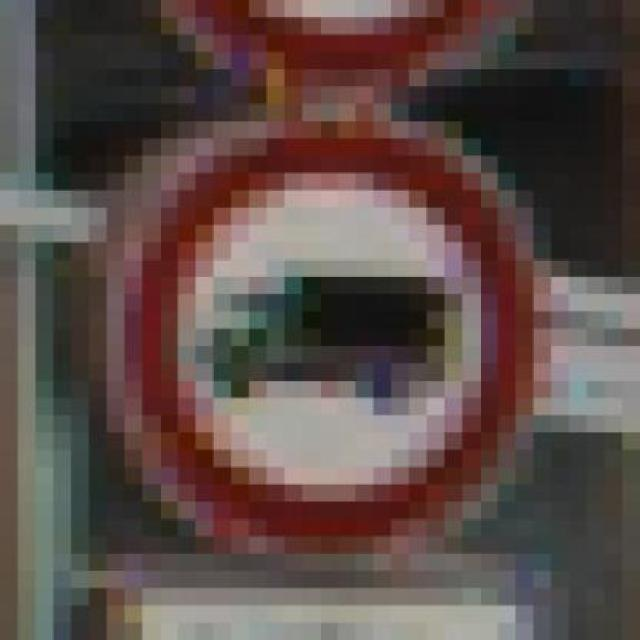Truck traffic is prohibited: (72, 69, 622, 571)
